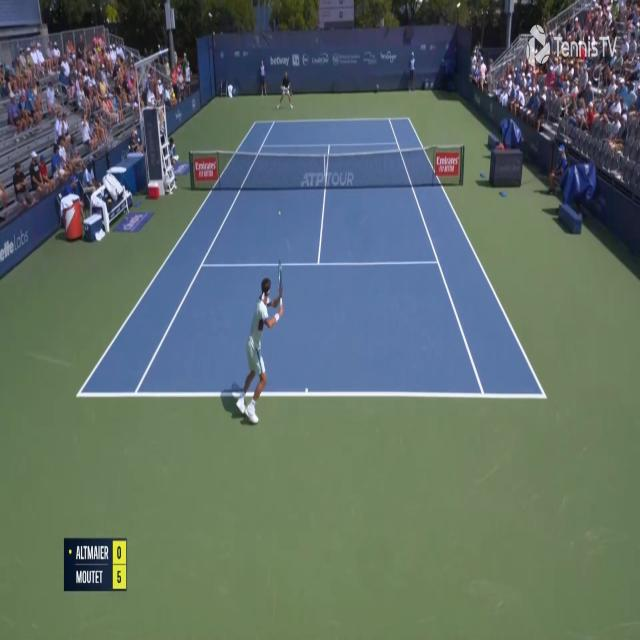tennis-player: (228, 269, 287, 428), (275, 70, 294, 111)
